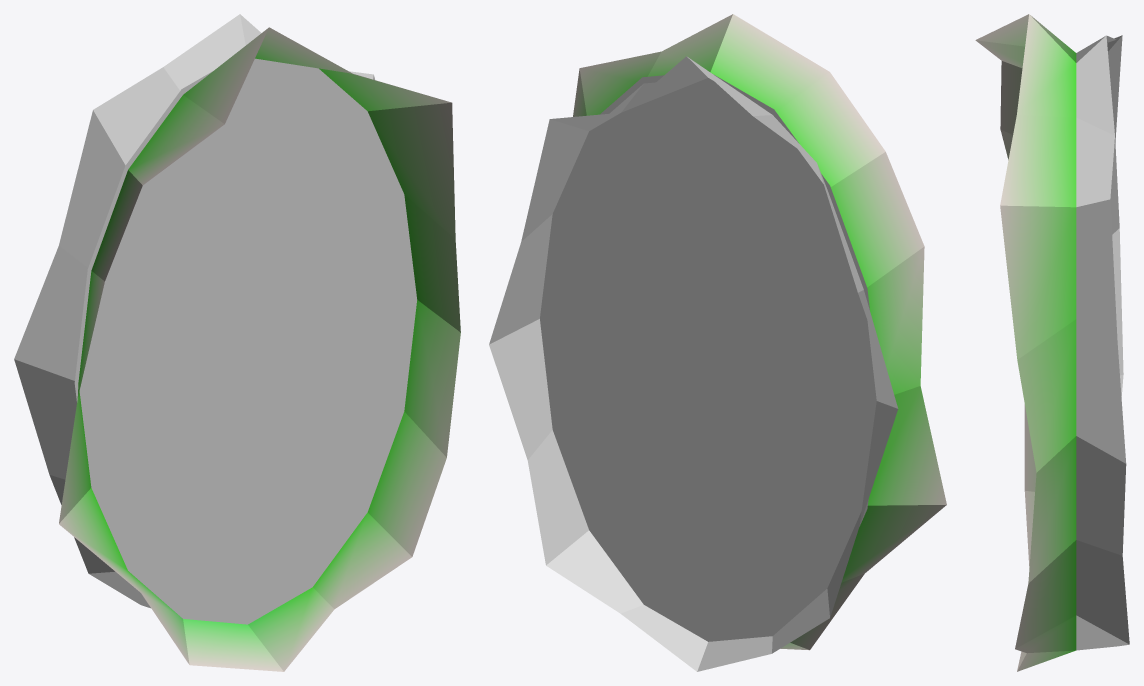
Rendered from notexPortal.fbx.
3 renders of one model, left to right at view 1: azimuth 30°, elevation 25°; view 2: azimuth 150°, elevation 25°; view 3: azimuth 270°, elevation 25°, orthographic. The views are drawn at different scales.
Visible parts, largest first — view 1: Portal, Glow.001, Glow; view 2: Portal, Glow.001, Glow; view 3: Glow.001, Glow.
Part boxes in pixels (x1=…): Portal: x1=74, y1=58, x2=417, y2=624; Glow.001: x1=59, y1=27, x2=460, y2=671; Glow: x1=14, y1=14, x2=374, y2=608; Portal: x1=540, y1=75, x2=876, y2=641; Glow.001: x1=573, y1=14, x2=946, y2=650; Glow: x1=489, y1=56, x2=898, y2=671; Glow.001: x1=975, y1=14, x2=1076, y2=671; Glow: x1=1076, y1=35, x2=1129, y2=650.
Bounding box in the file's own units: 49.14 × 73.51 × 15.75.
